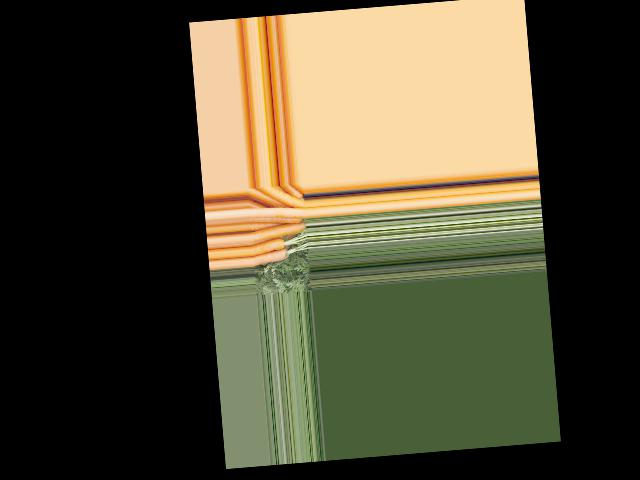carrot: (259, 184, 303, 209)
